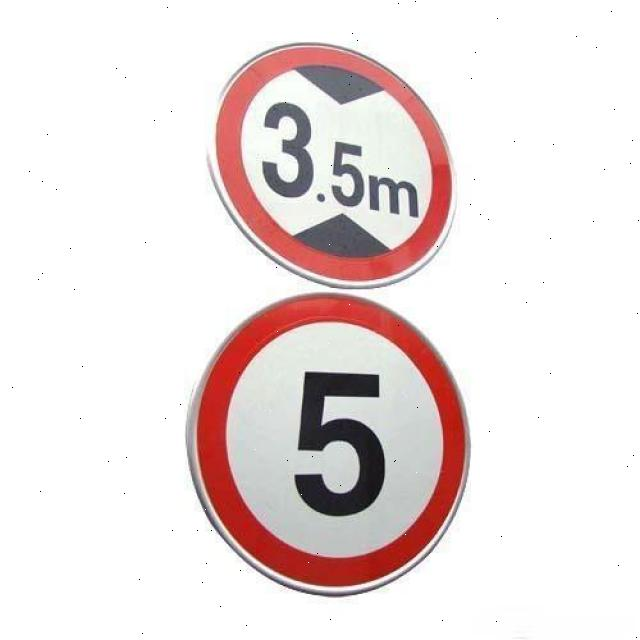speed limit 10: (183, 290, 472, 598)
